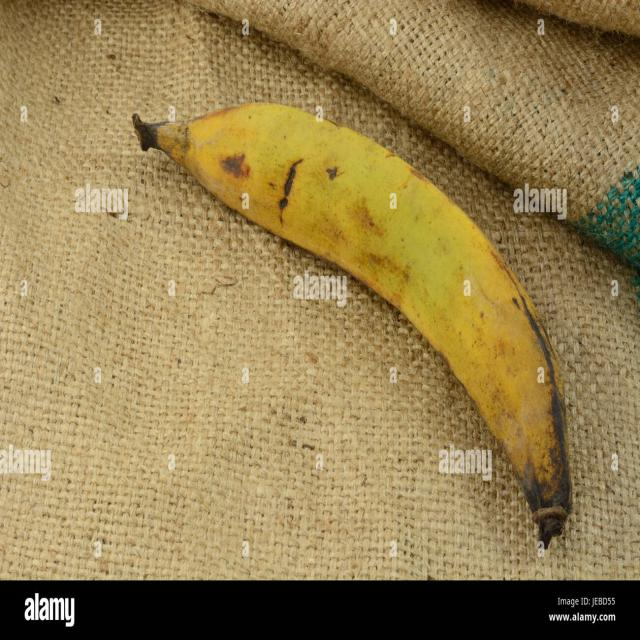Cascara de banano: (138, 91, 574, 543)
